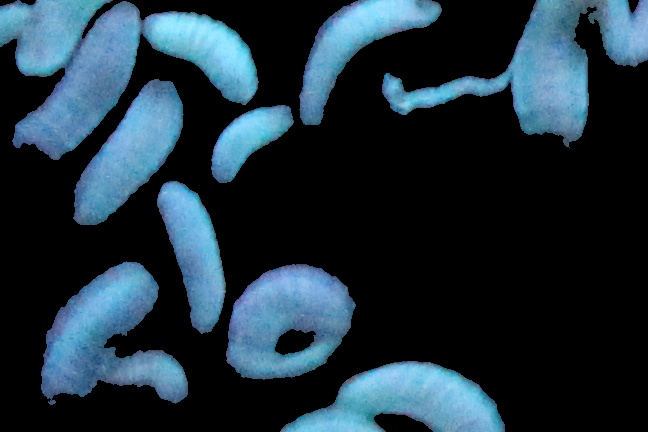larvae: (12, 3, 149, 163), (302, 1, 441, 136), (39, 267, 156, 419), (64, 80, 181, 230), (510, 1, 602, 163), (337, 363, 503, 432), (145, 13, 264, 105), (155, 184, 229, 329), (234, 261, 347, 340), (208, 101, 295, 190), (14, 1, 109, 67), (110, 346, 202, 409)
